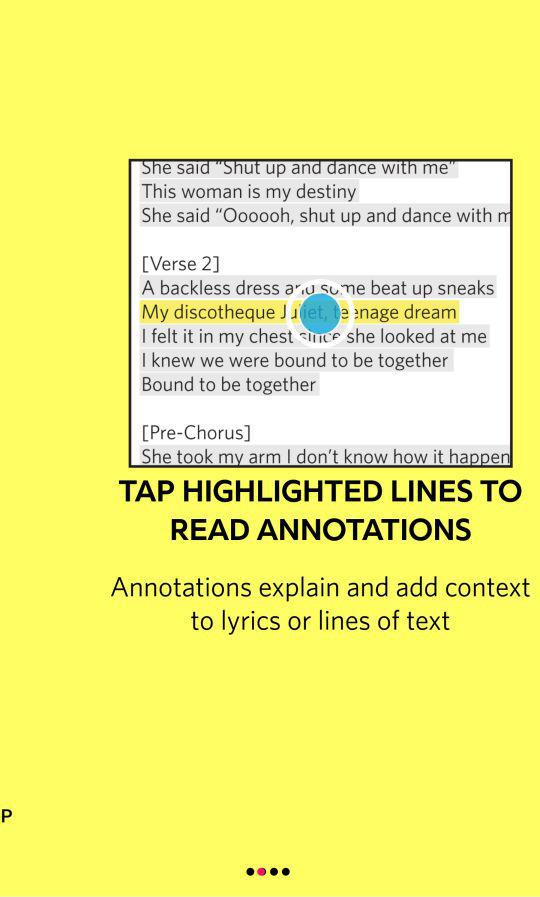Image: (128, 158, 514, 469)
PageIndicator: (246, 867, 292, 877)
Text: (119, 479, 522, 541), (111, 576, 531, 635)
